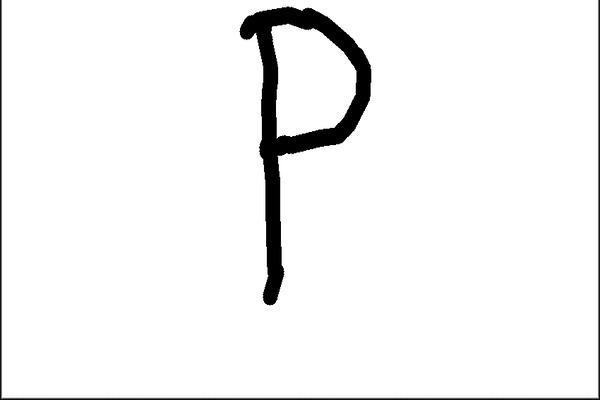P: (230, 4, 391, 312)
